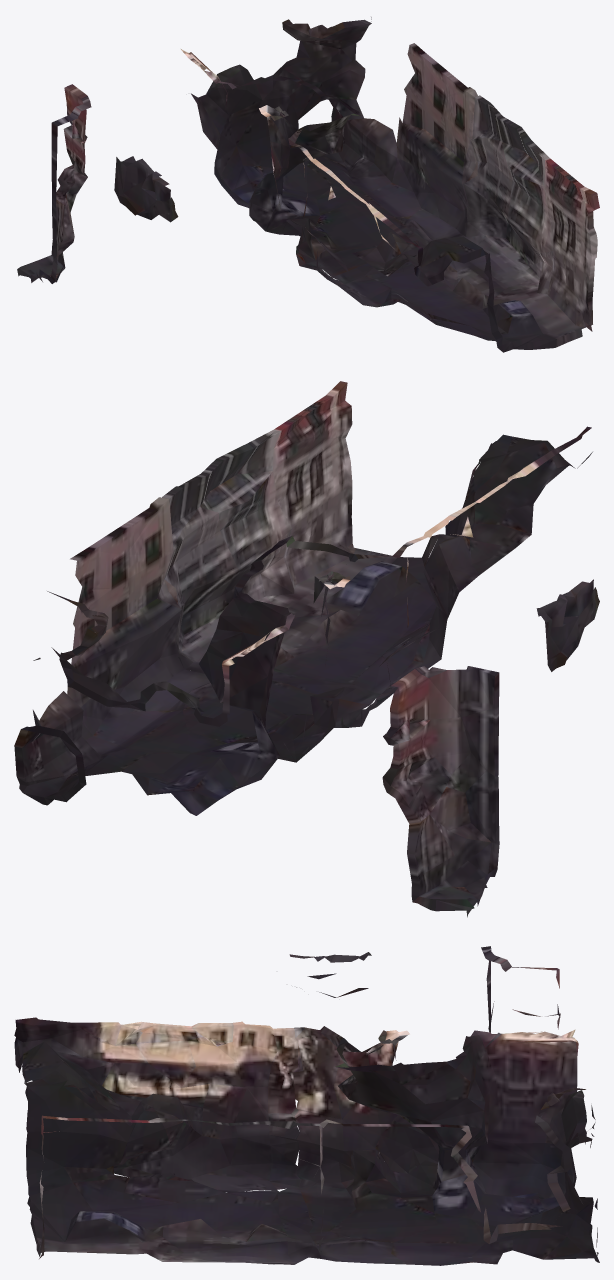
3 renders of one model, top to bottom at view 1: azimuth 30°, elevation 25°; view 2: azimuth 150°, elevation 25°; view 3: azimuth 270°, elevation 25°, orthographic. The views are drawn at different scales.
Visible parts, largest first — view 1: Mesh_0; view 2: Mesh_0; view 3: Mesh_0.
Part boxes in pixels (x1,y1,x2,y2): Mesh_0: (17, 17, 599, 352); Mesh_0: (14, 381, 599, 917); Mesh_0: (14, 946, 599, 1265).
Bounding box in the file's own units: 31.14 × 14.66 × 40.52.
Materials: 1 (1 with a texture image).
